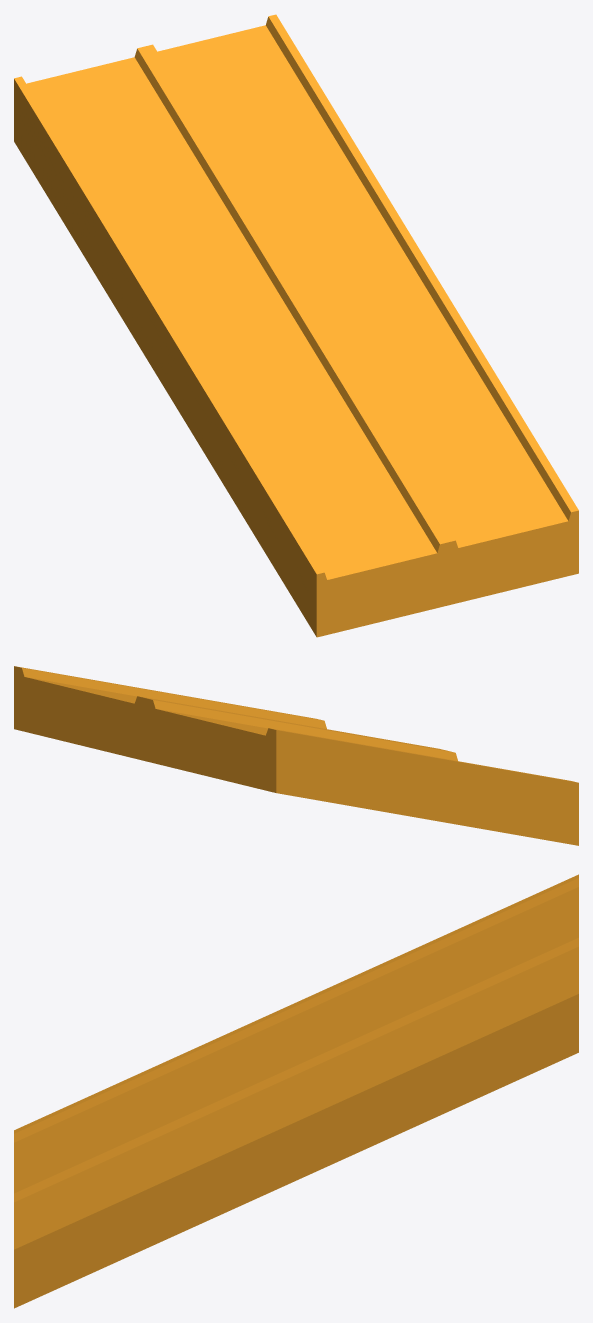
Rendered from SM_Roof_Metal_Moderate_1x2m.fbx.
The picture shows the model from 3 angles, top to bottom: view 1: azimuth 30°, elevation 25°; view 2: azimuth 150°, elevation 25°; view 3: azimuth 270°, elevation 25°; orthographic projection. The views are drawn at different scales.
Visible parts, largest first — view 1: roof-metal-moderate-1x2m; view 2: roof-metal-moderate-1x2m; view 3: roof-metal-moderate-1x2m.
Boxes of the visible parts, bbox=[...] form: roof-metal-moderate-1x2m: bbox=[14, 14, 578, 637]; roof-metal-moderate-1x2m: bbox=[14, 666, 578, 845]; roof-metal-moderate-1x2m: bbox=[14, 874, 578, 1308].
Size of the model in its own units: 1 by 1.23 by 2.
